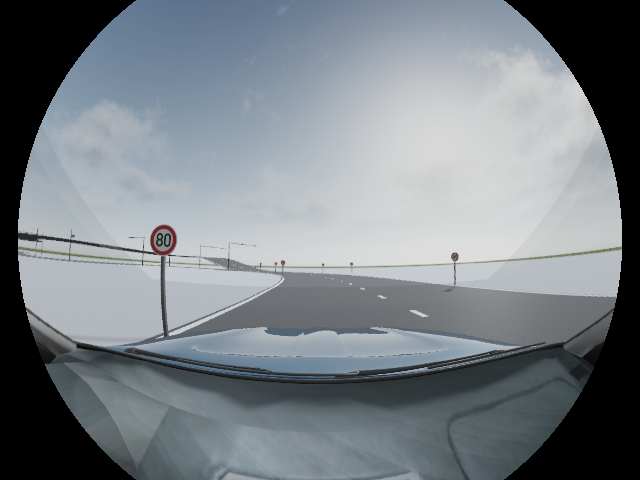Speed Limit 80: (150, 223, 177, 255)
